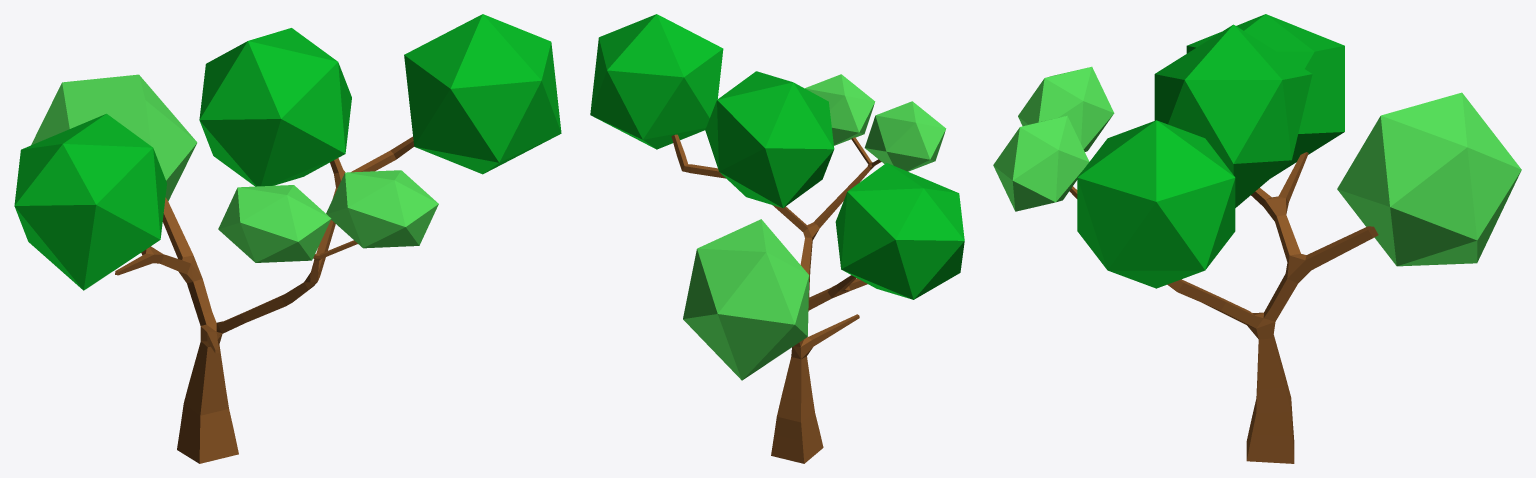
The model's file is Tree fbx.fbx.
3 renders of one model, left to right at view 1: azimuth 30°, elevation 25°; view 2: azimuth 150°, elevation 25°; view 3: azimuth 270°, elevation 25°, orthographic. The views are drawn at different scales.
Visible parts, largest first — view 1: Leaves; view 2: Leaves; view 3: Leaves.
Boxes of the visible parts, bbox=[...] form: Leaves: bbox=[14, 14, 561, 463]; Leaves: bbox=[590, 14, 964, 463]; Leaves: bbox=[993, 14, 1521, 463].
Bounding box in the file's own units: 7878 × 6606 × 7088.
